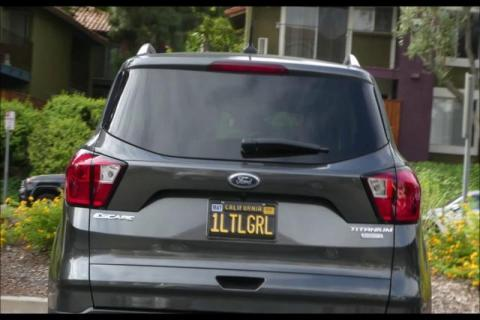LicensePlate: (208, 198, 282, 240)
